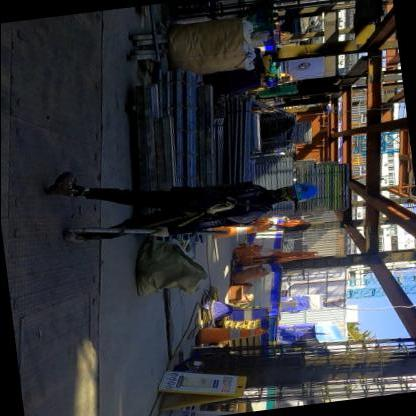Helmet: (285, 175, 318, 204)
safety-shoe: (35, 164, 90, 206), (52, 222, 92, 252)
